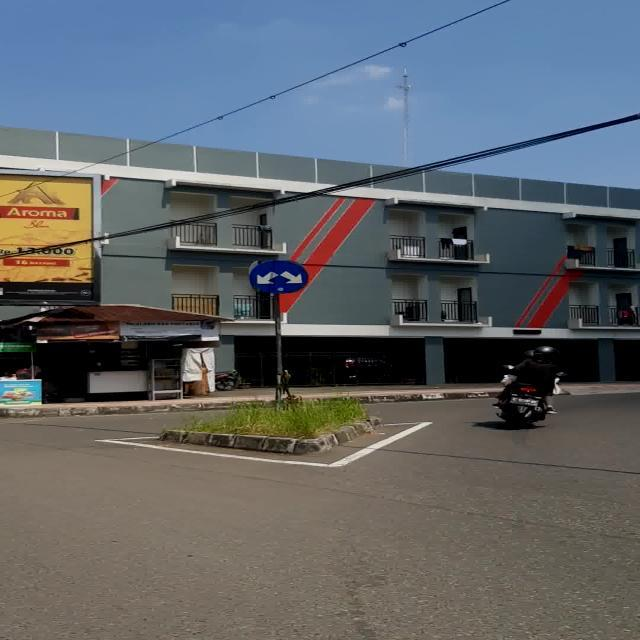Pilih Salah Satu Jalur: (250, 260, 308, 294)
